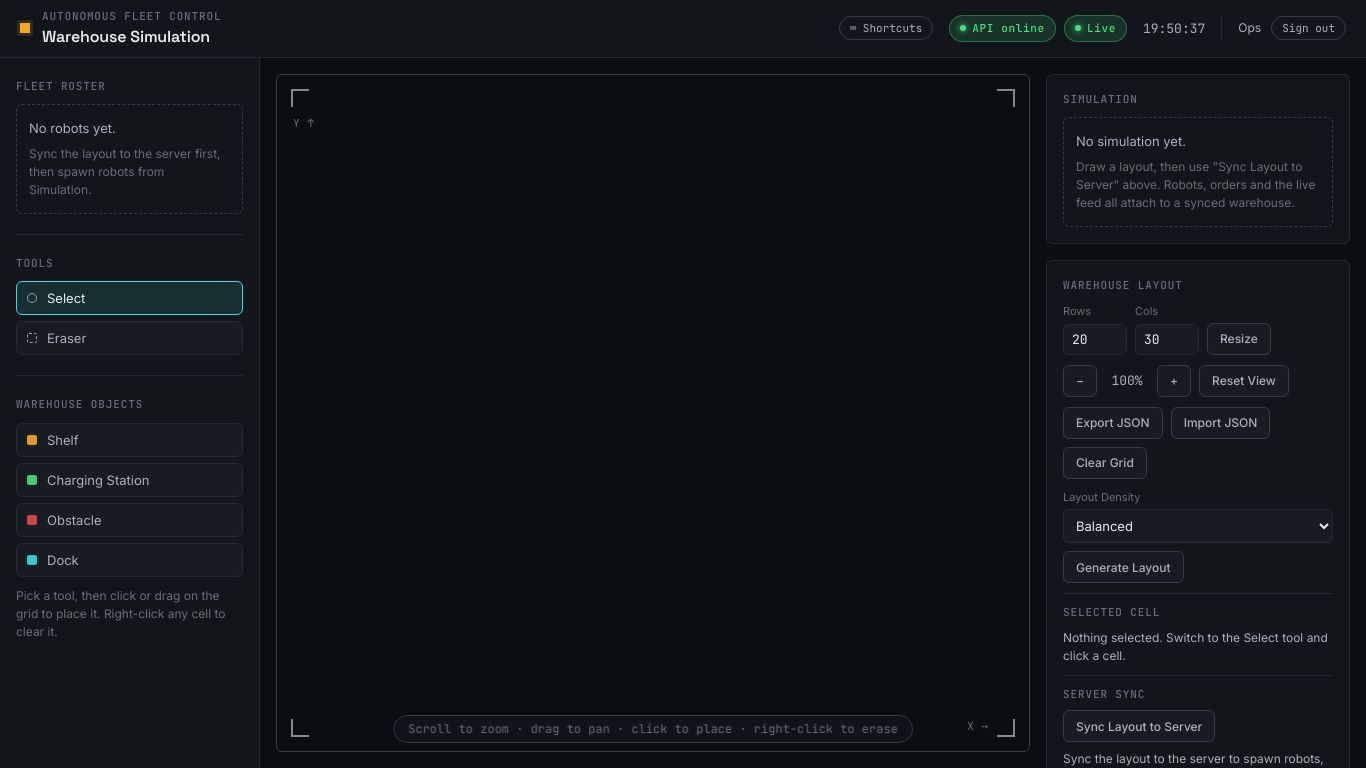
Scenario: socket disconnect and reconnect › tells the user the view is no longer live and disables the controls
What coordinates should you click on to do the following:
click the button "Sync Layout to Server"
I would click on:
 (1139, 726)
Its box is [1063,710,1215,742].
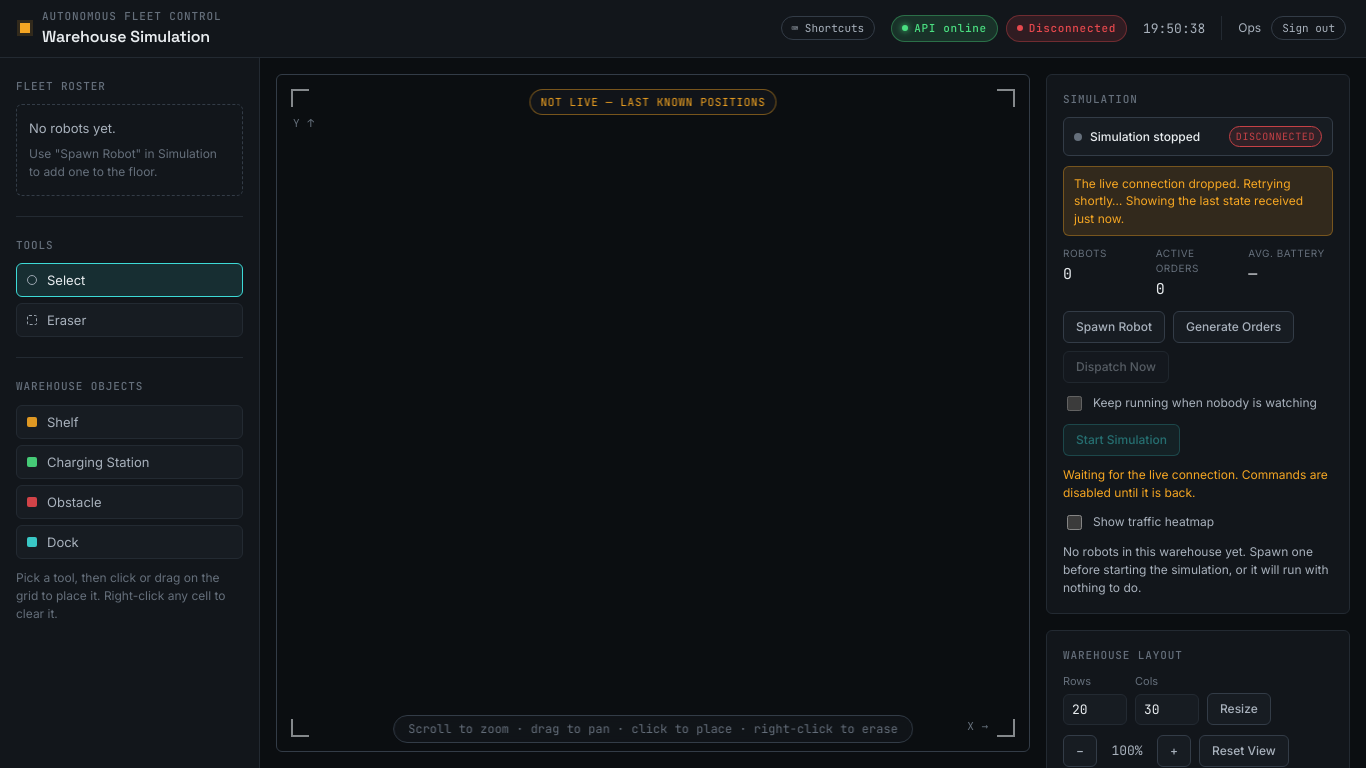
Expected: the text "last state received" is shown, [1074,193,1303,226]
Expected: the button "Start Simulation" is disabled, [1063,424,1180,456]
